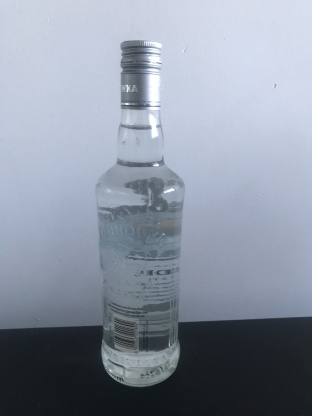nakretka: (119, 38, 163, 109)
